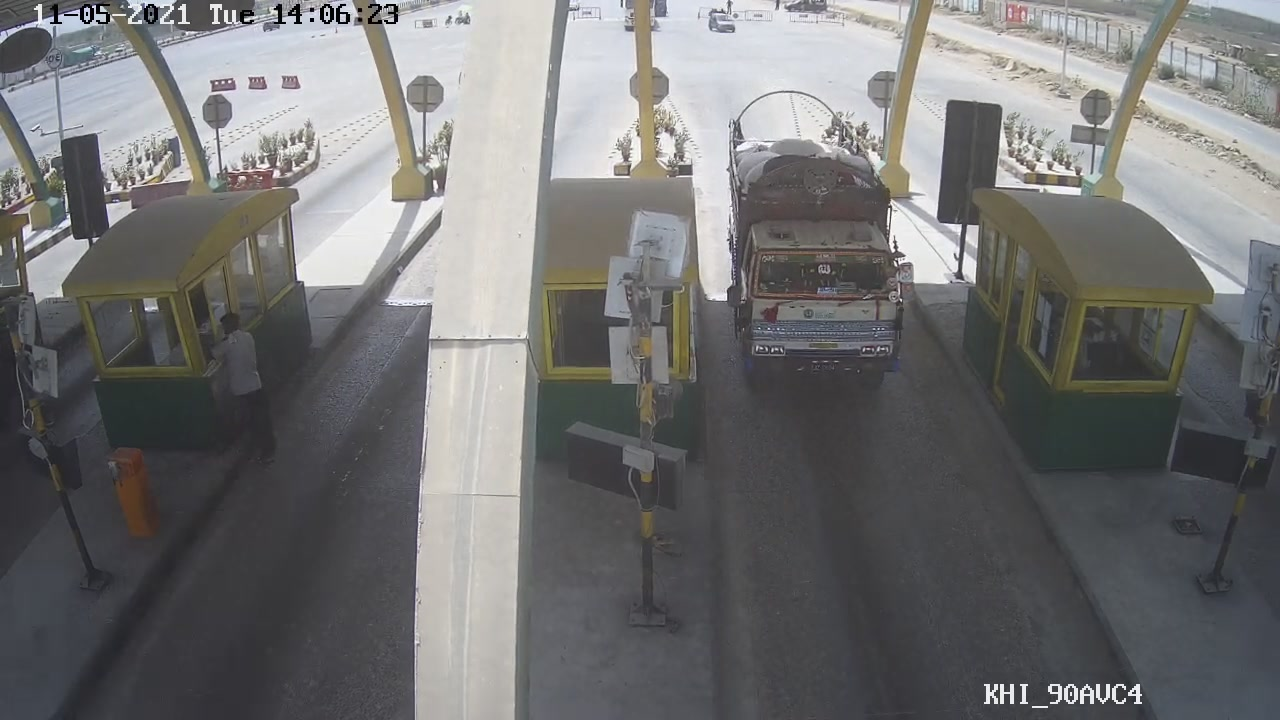F5: (715, 90, 907, 385)
